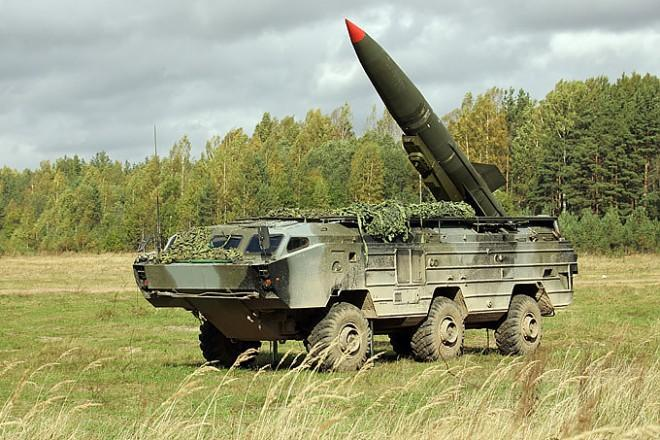rszo: (146, 185, 609, 367)
